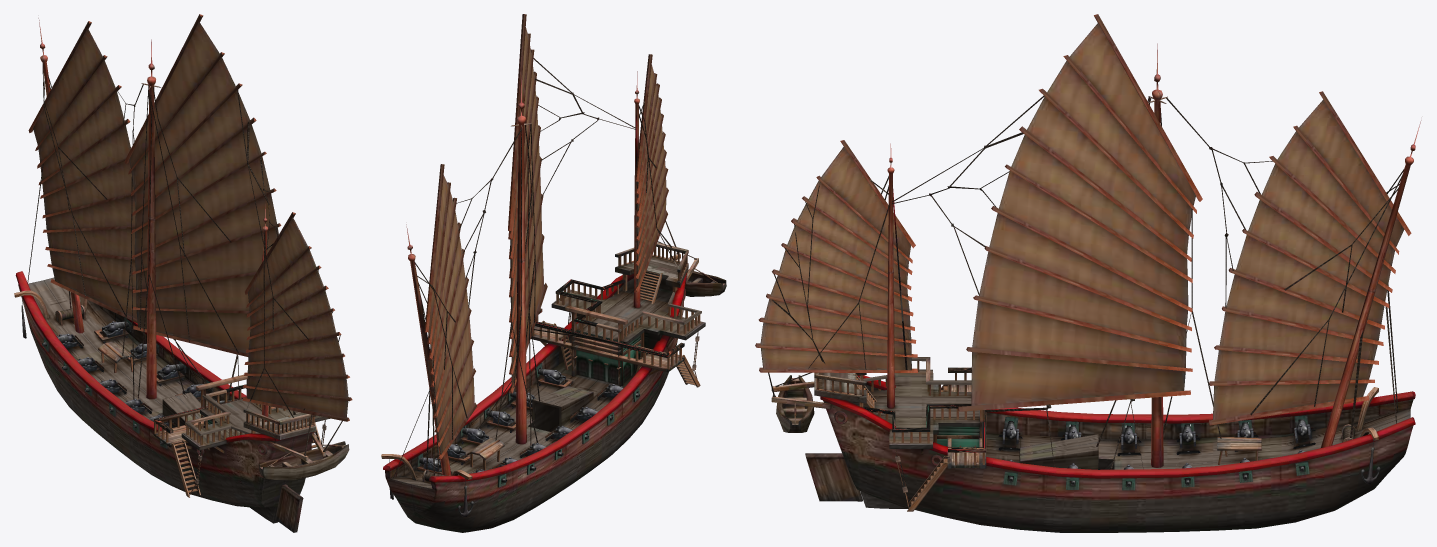
File: chinese_warship.fbx
The picture shows the model from 3 angles, left to right: view 1: azimuth 30°, elevation 25°; view 2: azimuth 150°, elevation 25°; view 3: azimuth 270°, elevation 25°; orthographic projection. The views are drawn at different scales.
Visible parts, largest first — view 1: Junk_Ship_polySurface102, Junk_Ship_polySurface129, Junk_Ship_polySurface151, Junk_Ship_polySurface140, Junk_Ship_polySurface153, Junk_Ship_pCylinder7, Junk_Ship_polySurface105, Junk_Ship_polySurface154, Junk_Ship_polySurface155, Junk_Ship_polySurface79, Junk_Ship_polySurface81, Junk_Ship_polySurface160 (+16 smaller); view 2: Junk_Ship_polySurface151, Junk_Ship_polySurface153, Junk_Ship_polySurface129, Junk_Ship_polySurface102, Junk_Ship_pCylinder7, Junk_Ship_polySurface140, Junk_Ship_polySurface154, Junk_Ship_polySurface155, Junk_Ship_polySurface160, Junk_Ship_pCylinder8, Junk_Ship_polySurface67, Junk_Ship_polySurface81 (+19 smaller); view 3: Junk_Ship_polySurface102, Junk_Ship_polySurface151, Junk_Ship_polySurface129, Junk_Ship_polySurface140, Junk_Ship_polySurface153, Junk_Ship_pCylinder8, Junk_Ship_polySurface155, Junk_Ship_polySurface79, Junk_Ship_polySurface101, Junk_Ship_polySurface105, Junk_Ship_polySurface76, Junk_Ship_pCylinder7 (+15 smaller).
Part boxes in pixels (x1,y1,x2,y2): Junk_Ship_polySurface102: [129, 22, 278, 353]; Junk_Ship_polySurface129: [33, 28, 137, 319]; Junk_Ship_polySurface151: [15, 271, 313, 523]; Junk_Ship_polySurface140: [247, 217, 348, 417]; Junk_Ship_polySurface153: [28, 277, 330, 450]; Junk_Ship_pCylinder7: [146, 39, 156, 399]; Junk_Ship_polySurface105: [259, 441, 349, 480]; Junk_Ship_polySurface154: [94, 317, 235, 402]; Junk_Ship_polySurface155: [42, 333, 176, 448]; Junk_Ship_polySurface79: [275, 484, 303, 532]; Junk_Ship_polySurface81: [243, 411, 315, 439]; Junk_Ship_polySurface160: [185, 384, 251, 435]; Junk_Ship_polySurface151: [383, 272, 686, 532]; Junk_Ship_polySurface153: [390, 285, 705, 488]; Junk_Ship_polySurface129: [428, 175, 474, 454]; Junk_Ship_polySurface102: [510, 27, 544, 387]; Junk_Ship_pCylinder7: [515, 77, 526, 444]; Junk_Ship_polySurface140: [636, 65, 666, 287]; Junk_Ship_polySurface154: [417, 363, 573, 474]; Junk_Ship_polySurface155: [473, 384, 640, 487]; Junk_Ship_polySurface160: [555, 279, 701, 332]; Junk_Ship_pCylinder8: [406, 224, 451, 475]; Junk_Ship_polySurface67: [508, 14, 526, 230]; Junk_Ship_polySurface81: [615, 254, 688, 287]; Junk_Ship_polySurface102: [971, 23, 1195, 405]; Junk_Ship_polySurface151: [820, 375, 1415, 532]; Junk_Ship_polySurface129: [1212, 100, 1404, 419]; Junk_Ship_polySurface140: [760, 146, 911, 370]; Junk_Ship_polySurface153: [846, 369, 1410, 469]; Junk_Ship_pCylinder8: [1321, 120, 1421, 447]; Junk_Ship_polySurface155: [998, 415, 1315, 456]; Junk_Ship_polySurface79: [805, 453, 862, 501]; Junk_Ship_polySurface101: [887, 143, 894, 408]; Junk_Ship_polySurface105: [776, 375, 814, 432]; Junk_Ship_polySurface76: [958, 390, 1190, 411]; Junk_Ship_pCylinder7: [1151, 43, 1163, 467].
Bounding box in the file's own units: 10.75 × 31.2 × 37.
